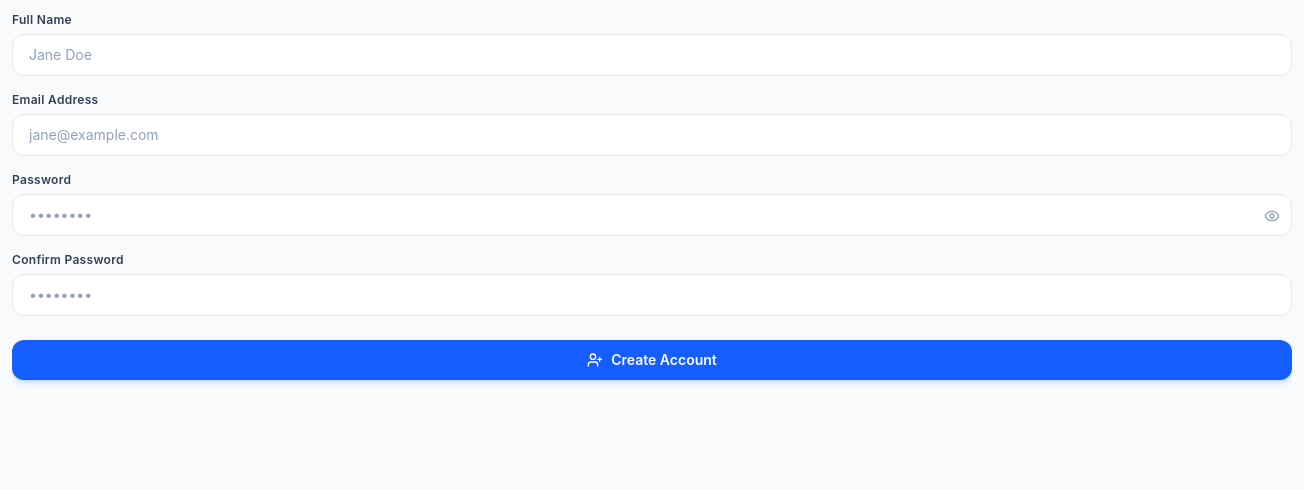
Scenario: Authentication Tests › RegisterForm › renders registration validation errors when submitted empty
The width and height of the screenshot is (1304, 490).
Click the button "Create Account": (652, 360) left=12, top=340, right=1292, bottom=380
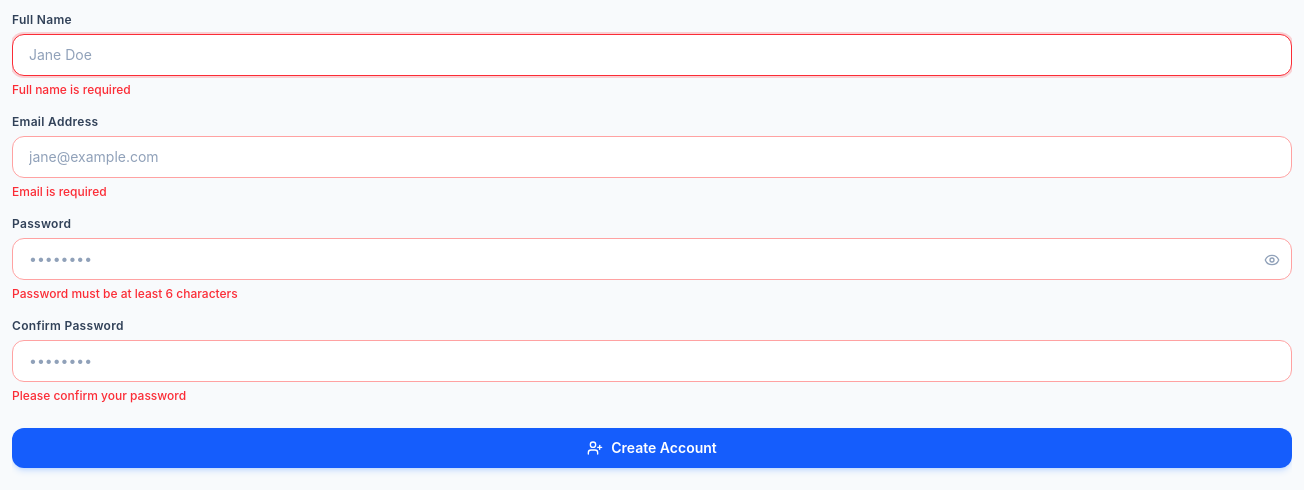
Now the text "Full name is required" is shown, box left=12, top=82, right=131, bottom=97
Now the text "Email is required" is shown, box left=12, top=184, right=107, bottom=199
